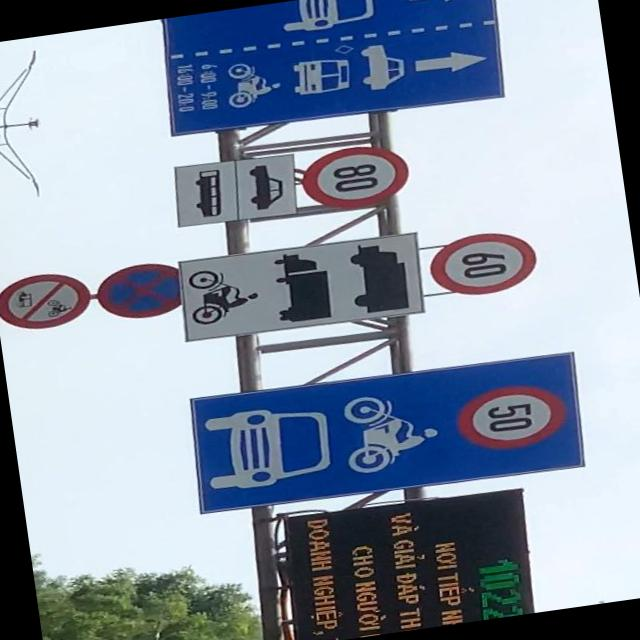P-127: (428, 227, 540, 302), (302, 142, 411, 212)
P-130: (93, 260, 182, 323)
